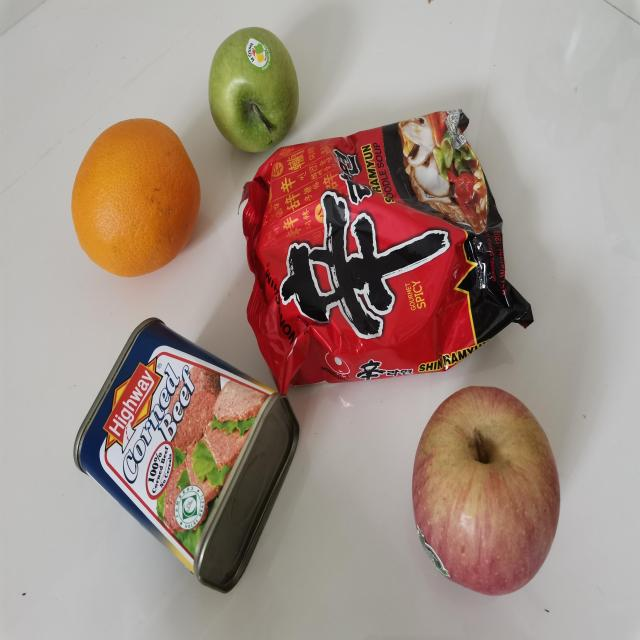Apple: (409, 384, 560, 596), (207, 24, 301, 154)
Orange: (70, 122, 203, 278)
